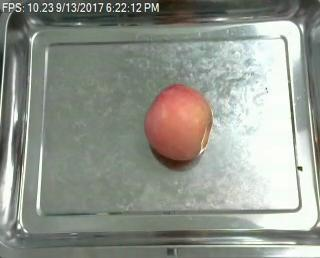apple: (143, 84, 214, 159)
